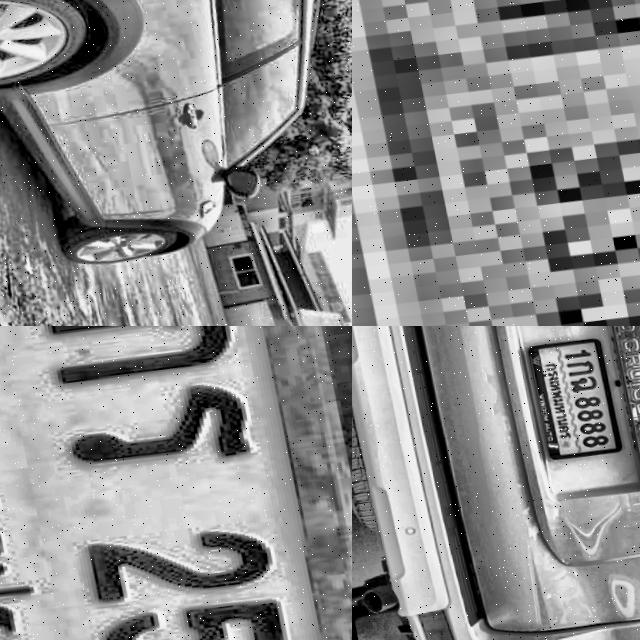license-plate: (0, 326, 352, 640), (352, 0, 640, 326), (521, 331, 621, 463)
